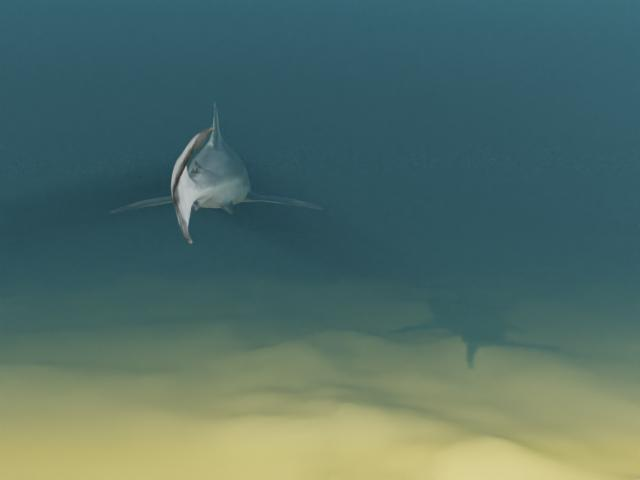Carribean Shark.001: (110, 101, 324, 244)
